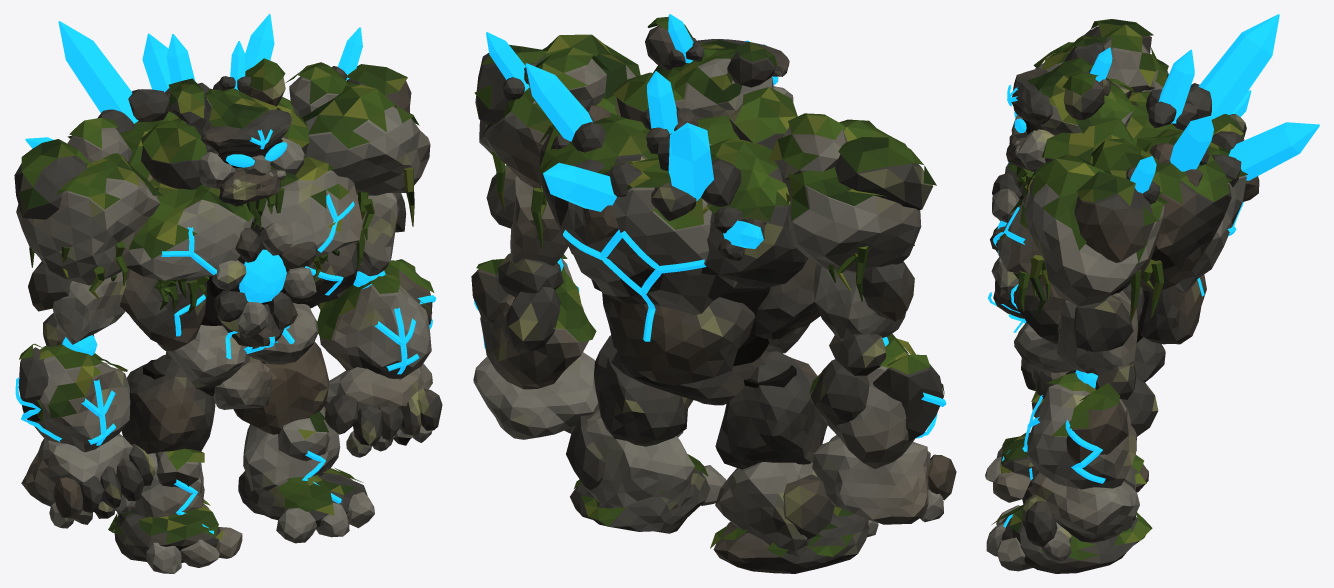
Rendered from golem.glb.
3 renders of one model, left to right at view 1: azimuth 30°, elevation 25°; view 2: azimuth 150°, elevation 25°; view 3: azimuth 270°, elevation 25°, orthographic. The views are drawn at different scales.
Visible parts, largest first — view 1: m_trup_kam, m_trup_mach, m_trup_kam2, m_ruka_P_kam, m_ruka_L_kam, m_trup_runa, m_noha_P_kam2, m_noha_L_kam, m_ruka_P_kam2, m_noha_L_kam2, m_hlava_kam2, m_noha_P_kam (+11 smaller); view 2: m_trup_kam2, m_trup_mach, m_trup_kam, m_noha_P_kam2, m_ruka_P_kam, m_ruka_L_kam, m_trup_runa, m_noha_L_kam2, m_ruka_P_kam2, m_ruka_L_kam2, m_noha_L_kam, m_noha_P_kam (+9 smaller); view 3: m_trup_kam2, m_trup_mach, m_trup_kam, m_ruka_L_kam, m_trup_runa, m_ruka_L_kam2, m_hlava_mach, m_hlava_kam2, m_noha_L_kam2, m_hlava_kam, m_ruka_L_mach, m_noha_L_kam (+6 smaller).
Part boxes in pixels (x1,y1,x2,y2): m_trup_kam: (16,76,430,409); m_trup_mach: (18,62,419,314); m_trup_kam2: (14,66,411,396); m_ruka_P_kam: (21,271,136,528); m_ruka_L_kam: (319,193,432,457); m_trup_runa: (25,14,362,359); m_noha_P_kam2: (114,355,220,562); m_noha_L_kam: (243,406,374,543); m_ruka_P_kam2: (18,261,154,518); m_noha_L_kam2: (233,341,367,527); m_hlava_kam2: (171,76,291,206); m_noha_P_kam: (117,451,242,573); m_trup_kam2: (475,53,933,404); m_trup_mach: (474,34,936,301); m_trup_kam: (479,58,921,405); m_noha_P_kam2: (713,351,869,573); m_ruka_P_kam: (812,263,943,524); m_ruka_L_kam: (473,176,599,439); m_trup_runa: (486,32,763,341); m_noha_L_kam2: (566,335,710,533); m_ruka_P_kam2: (810,261,956,500); m_ruka_L_kam2: (471,165,563,351); m_noha_L_kam: (582,409,726,507); m_noha_P_kam: (715,443,878,556); m_trup_kam2: (990,26,1259,382); m_trup_mach: (999,19,1247,321); m_trup_kam: (991,36,1246,398); m_ruka_L_kam: (1027,290,1139,562); m_trup_runa: (988,14,1319,332); m_ruka_L_kam2: (1022,295,1158,547); m_hlava_mach: (1016,35,1135,196); m_hlava_kam2: (1006,42,1110,171); m_noha_L_kam2: (1000,438,1145,573); m_hlava_kam: (1009,105,1133,169); m_ruka_L_mach: (1047,372,1119,436); m_noha_L_kam: (986,465,1135,571).
Bounding box in the file's own units: 2.33 × 2.54 × 1.57.
